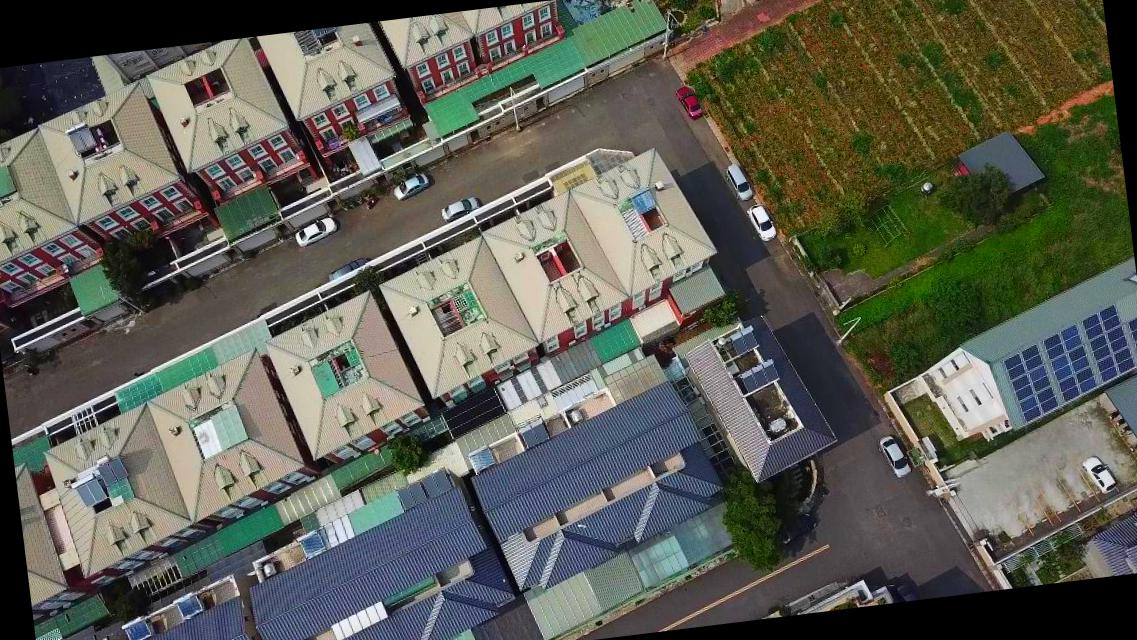vehicle: (289, 212, 339, 249), (877, 430, 913, 480), (1080, 454, 1118, 498), (672, 78, 704, 120), (391, 168, 430, 202), (748, 201, 779, 243), (438, 195, 482, 223), (725, 159, 753, 202)
